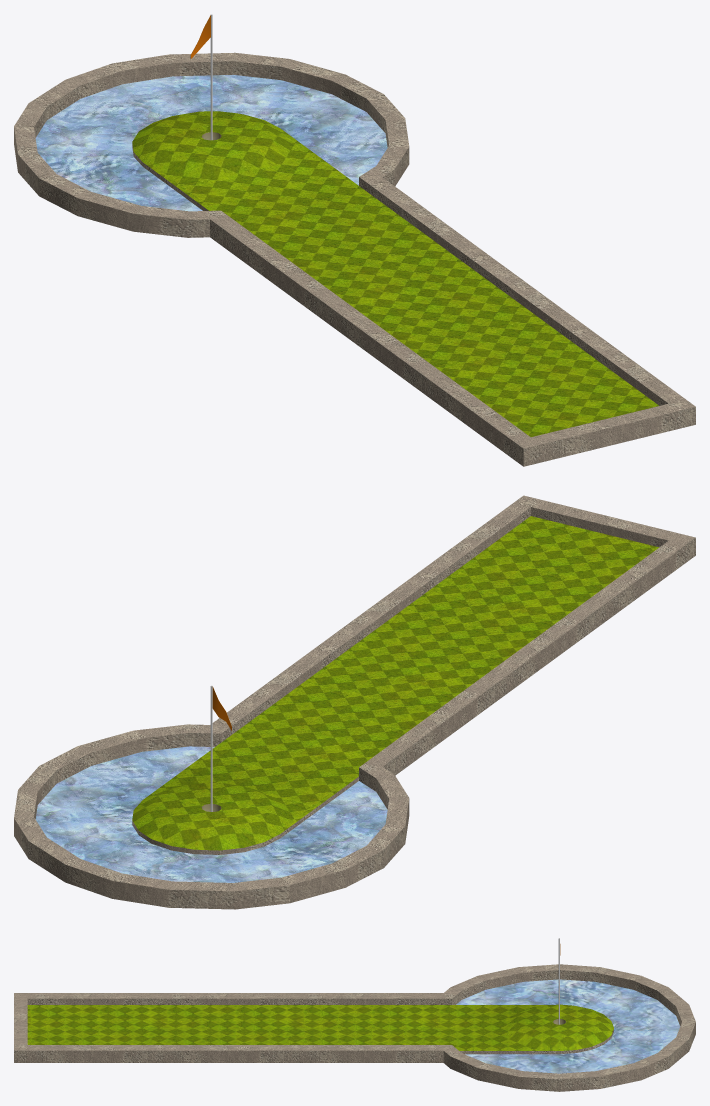
Rendered from course4_hole1.fbx.
3 views of the same model, one above another, from view 1: azimuth 30°, elevation 25°; view 2: azimuth 150°, elevation 25°; view 3: azimuth 270°, elevation 25° (orthographic). The views are drawn at different scales.
Parts seen in each view (by area): view 1: course4_hole1_ground, course4_hole1_walls, course4_hole1_water; view 2: course4_hole1_ground, course4_hole1_walls, course4_hole1_water, course4_hole1_flag; view 3: course4_hole1_ground, course4_hole1_walls, course4_hole1_water.
Boxes of the visible parts, left/top/right/bottom form: course4_hole1_ground: left=132, top=111, right=658, bottom=436; course4_hole1_walls: left=14, top=52, right=695, bottom=466; course4_hole1_water: left=35, top=74, right=387, bottom=211; course4_hole1_ground: left=132, top=516, right=658, bottom=850; course4_hole1_walls: left=14, top=495, right=695, bottom=909; course4_hole1_water: left=35, top=746, right=387, bottom=882; course4_hole1_flag: left=210, top=685, right=231, bottom=811; course4_hole1_ground: left=27, top=1004, right=613, bottom=1050; course4_hole1_walls: left=14, top=964, right=695, bottom=1091; course4_hole1_water: left=456, top=979, right=680, bottom=1073.
Bounding box in the file's own units: 200 × 77.54 × 500.
